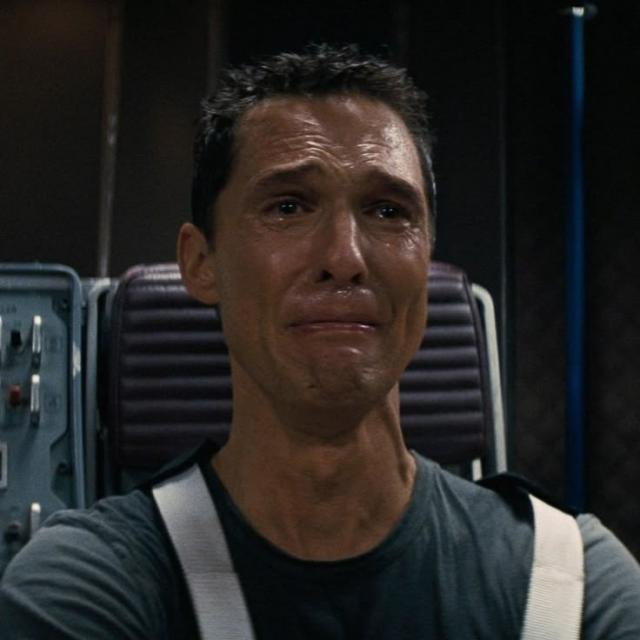sem_oculos: (177, 147, 444, 241)
